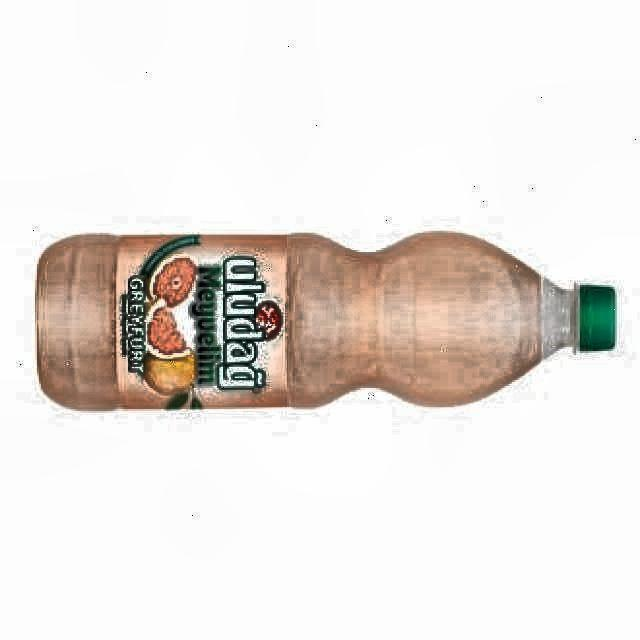plastic: (36, 233, 616, 410)
